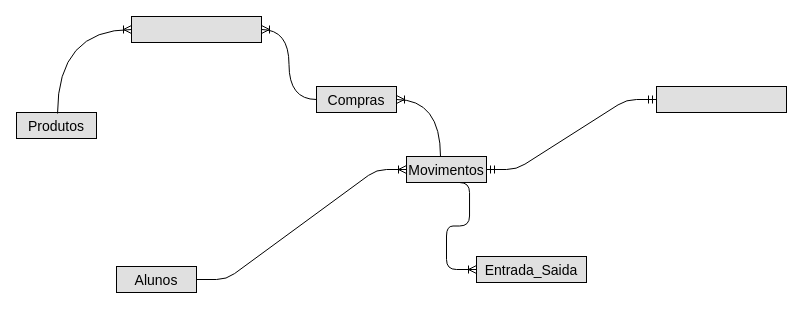
The diagram is 803 pixels wide and 309 high, and some of its shapes have lost their labels. Here are the shapes that lost their labels. From the top down, the centre of each, then its label:
[196,29]: Produtos_Compras
[721,99]: Carregamentos
